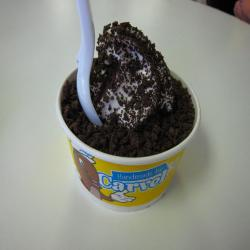icecream: (57, 21, 208, 194)
